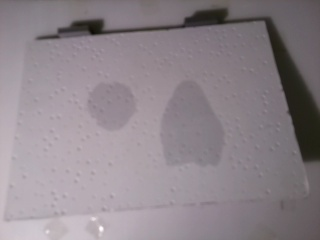Water_detected: (171, 96, 219, 163), (99, 89, 137, 127)
